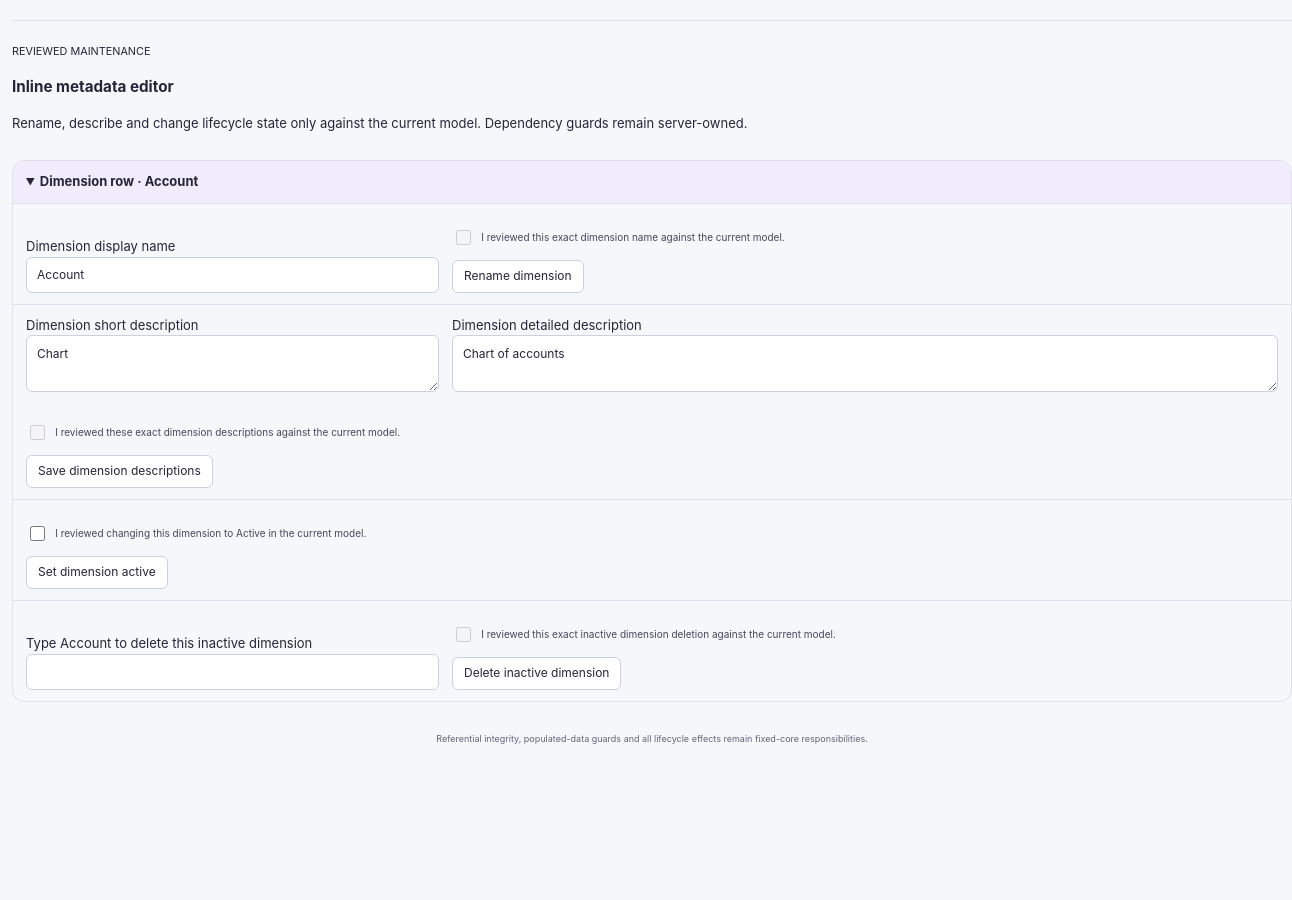
requires the exact inactive dimension identity before delete review
In the field labelled "Type Account to delete this inactive dimension": x=232, y=672 [26,654,439,690], type "Accounts"
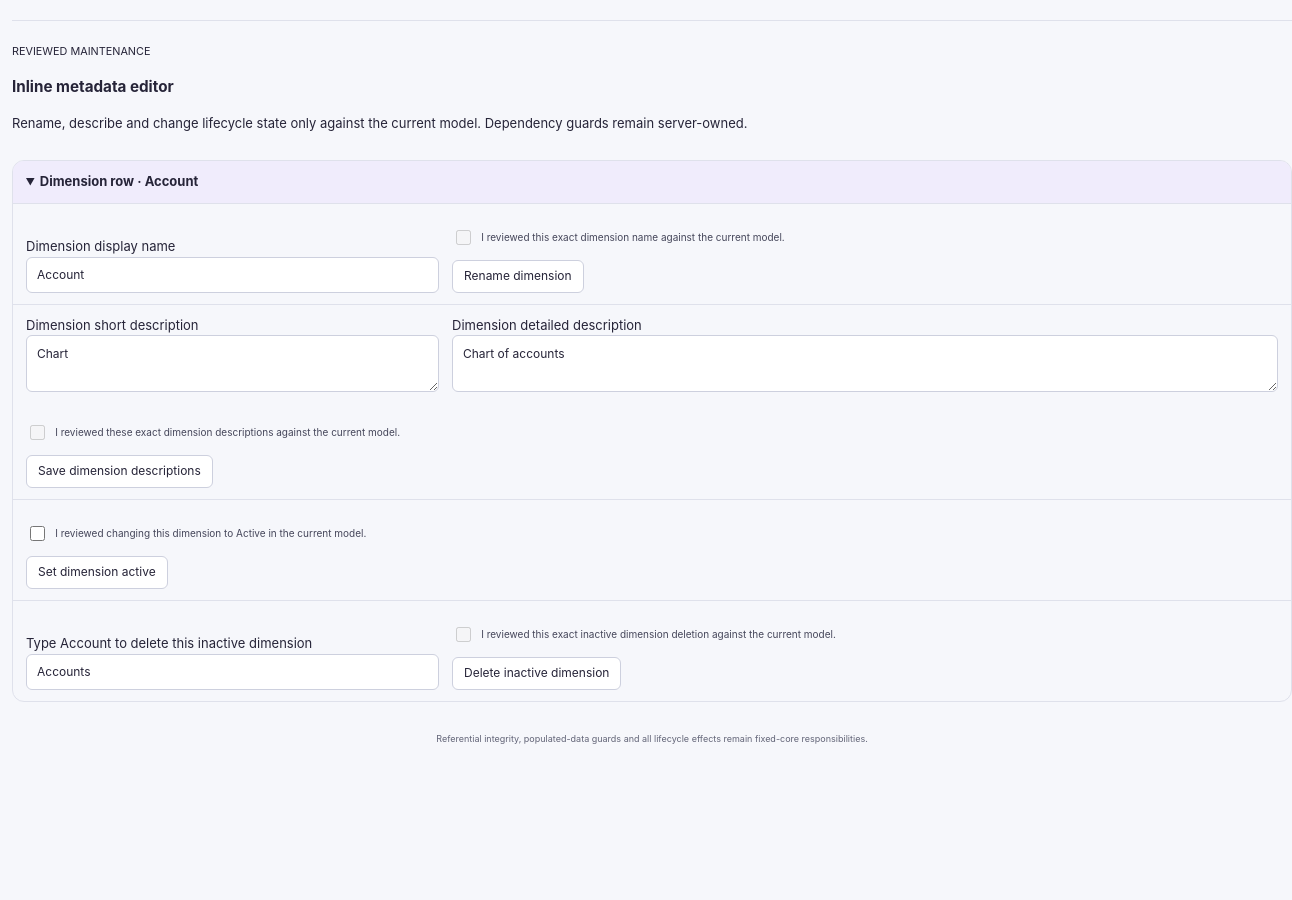
Expected: the checkbox labelled "I reviewed this exact inactive dimension deletion against the current model." is disabled, [456,627,471,642]
Replace the text in the field labelled "Type Account to delete this inactive dimension" with "Account": x=232, y=672 [26,654,439,690]
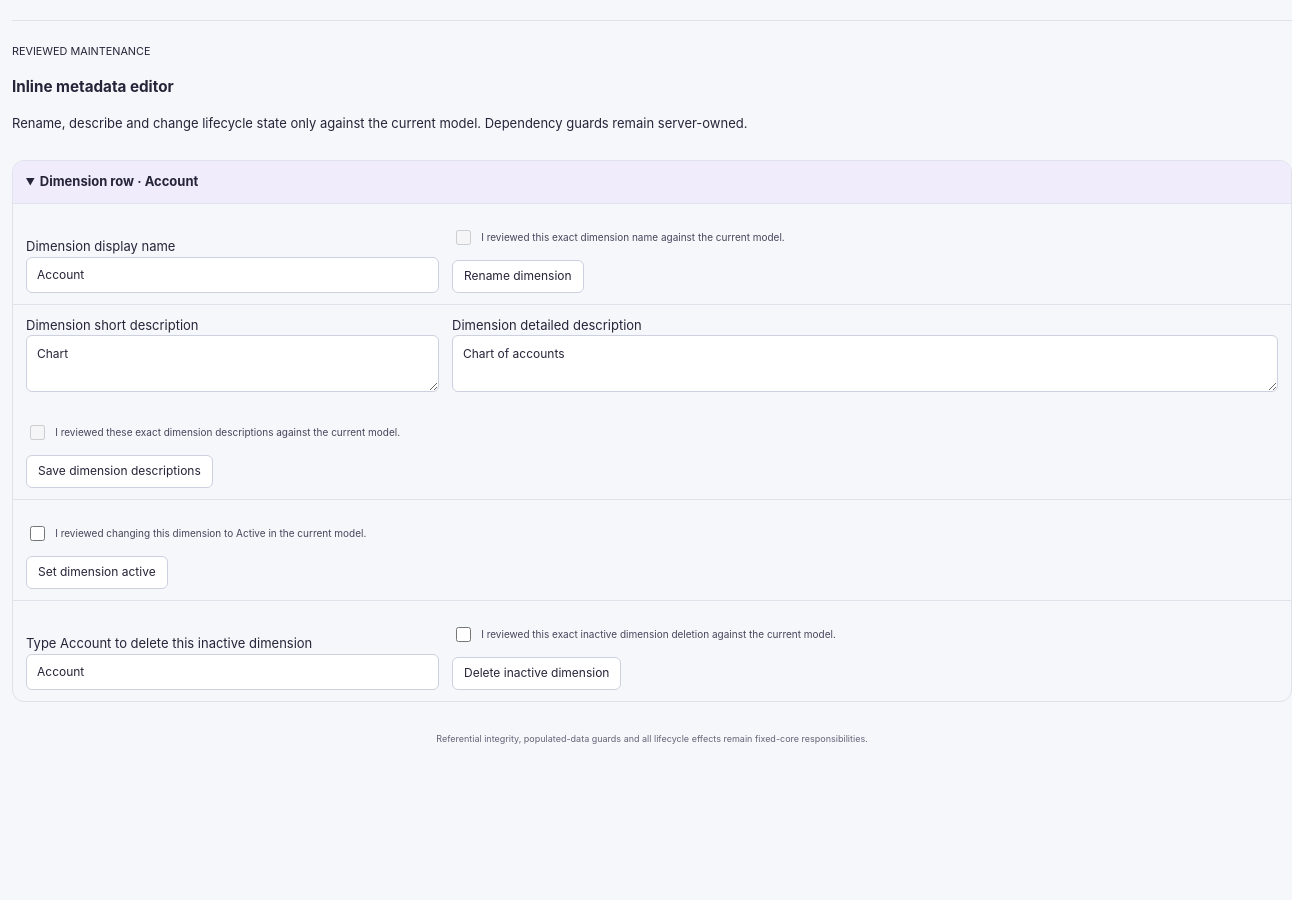
Result: the checkbox labelled "I reviewed this exact inactive dimension deletion against the current model." is enabled at [456,627,471,642]
